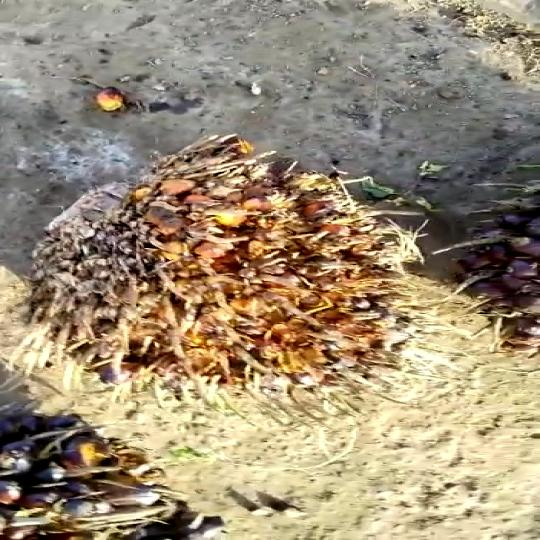terlalu masak: (23, 124, 431, 400)
